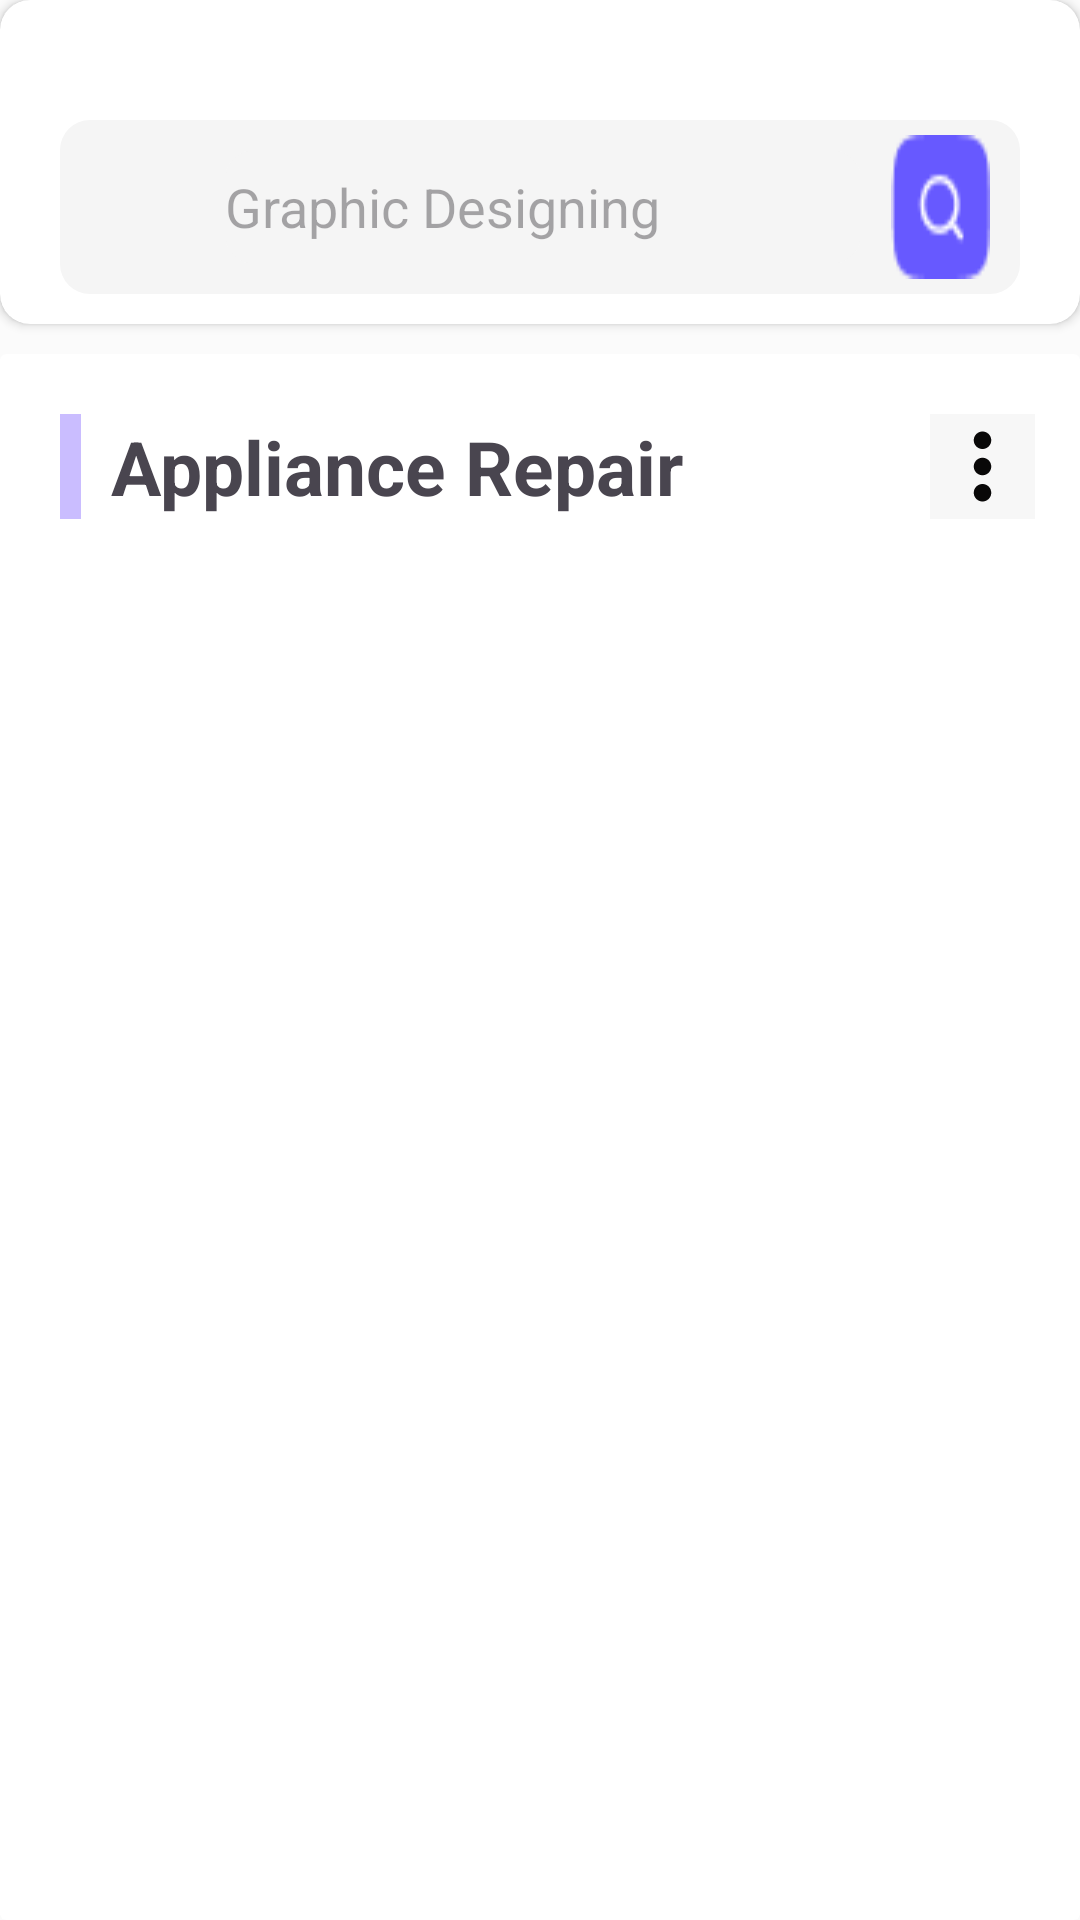

Named icons in this screenshot (1080 × 1920) and their centers, [x,y]:
more: [982,466]
search: [940,207]
